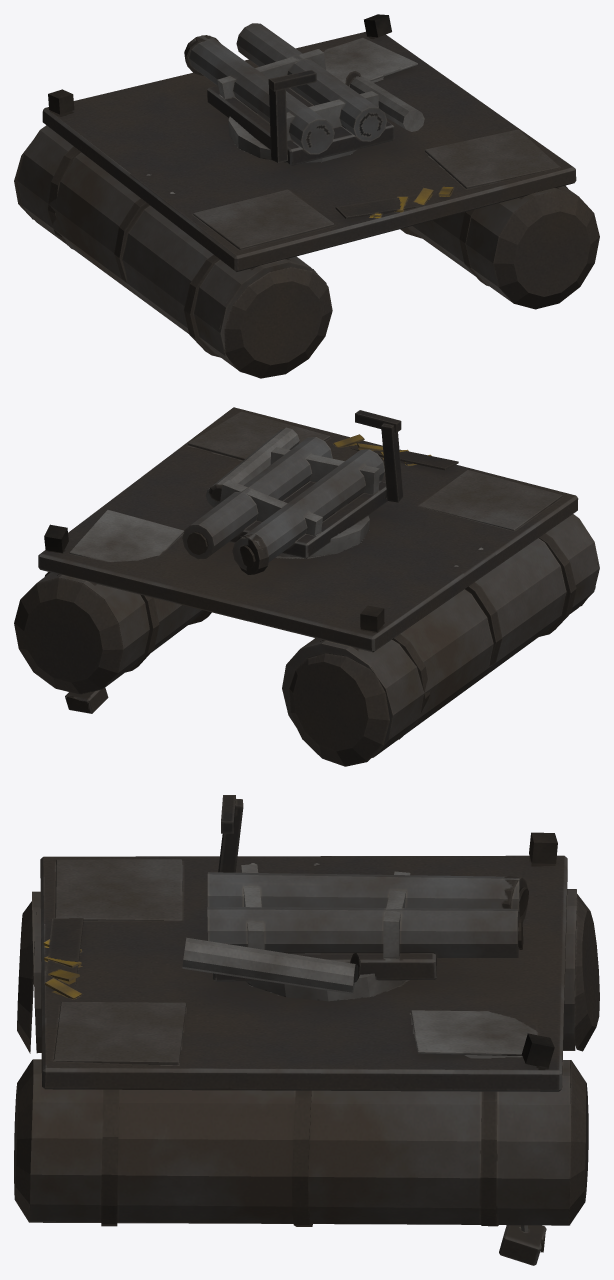
The model's file is chs_fang_wreck.fbx.
The picture shows the model from 3 angles, top to bottom: view 1: azimuth 30°, elevation 25°; view 2: azimuth 150°, elevation 25°; view 3: azimuth 270°, elevation 25°; orthographic projection. The views are drawn at different scales.
Parts seen in each view (by area): view 1: base_bar, launcher_bar, turret_bar; view 2: base_bar, launcher_bar, turret_bar, sonar_bar; view 3: base_bar, launcher_bar, turret_bar, sonar_bar.
Boxes of the visible parts, box(x1,y1,x2,y2) form: base_bar: box(14, 14, 599, 378); launcher_bar: box(184, 23, 424, 165); turret_bar: box(228, 116, 357, 162); base_bar: box(14, 407, 599, 766); launcher_bar: box(182, 410, 403, 574); turret_bar: box(278, 515, 369, 557); sonar_bar: box(65, 688, 108, 713); base_bar: box(14, 832, 599, 1226); launcher_bar: box(182, 795, 528, 994); turret_bar: box(246, 973, 406, 1001); sonar_bar: box(499, 1225, 546, 1265).
Size of the model in its own units: 746 by 515 by 740.
Materials: 2 (2 with a texture image).
